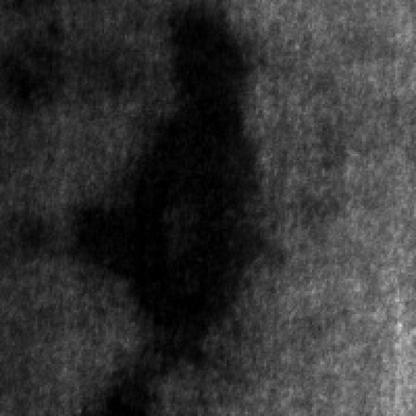patches: (71, 10, 258, 337), (79, 358, 164, 414), (0, 39, 60, 110)
